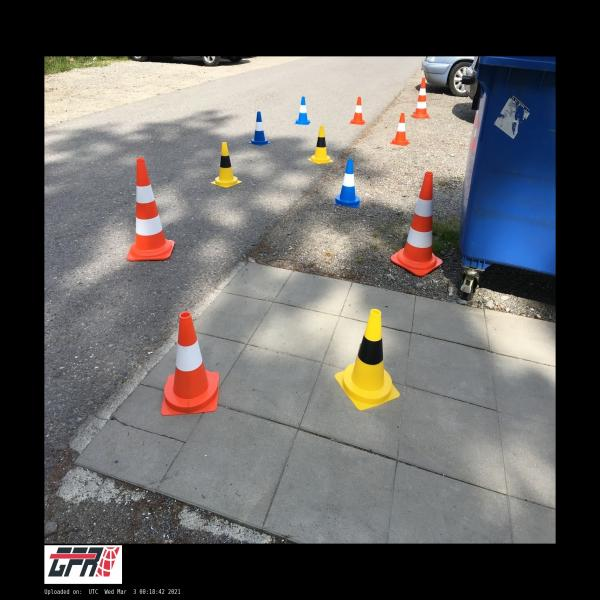blue_cone: (334, 158, 360, 208), (248, 112, 271, 146), (295, 96, 310, 125)
large_orange_cone: (391, 171, 442, 277), (126, 158, 174, 260), (411, 78, 430, 118)
orange_cone: (160, 312, 220, 415), (390, 113, 410, 146), (350, 97, 366, 125)
yellow_cone: (334, 309, 400, 409), (212, 142, 242, 188), (308, 126, 333, 164)
